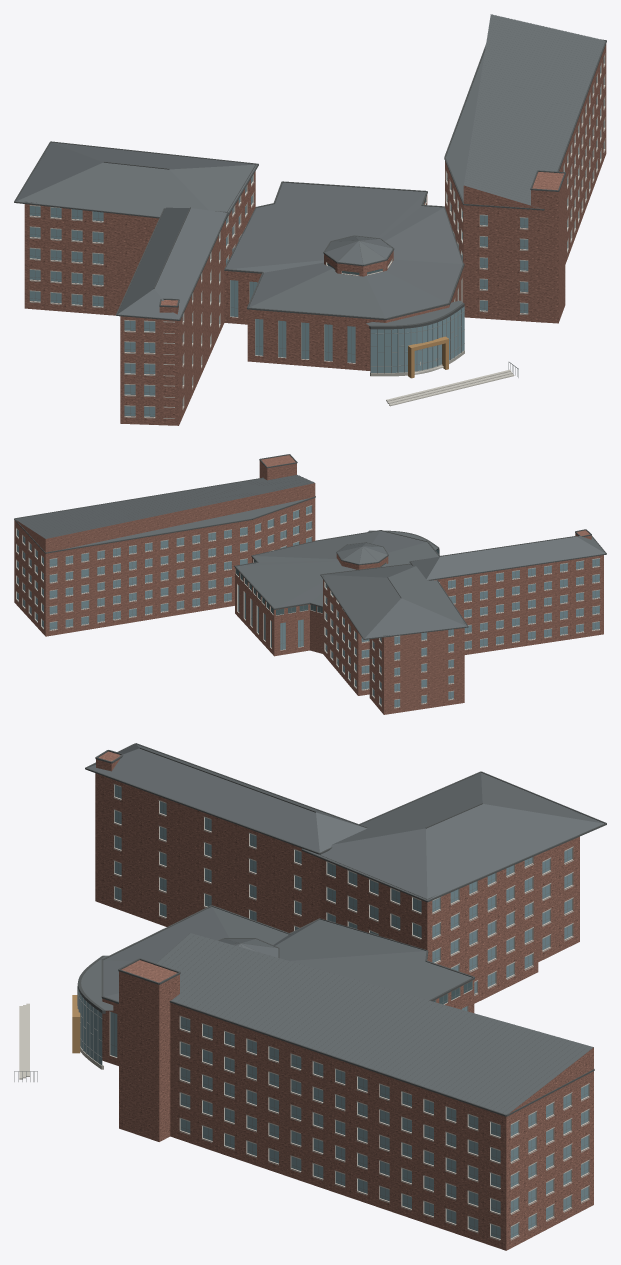
3 views of the same model, one above another, from view 1: azimuth 30°, elevation 25°; view 2: azimuth 150°, elevation 25°; view 3: azimuth 270°, elevation 25° (orthographic). The views are drawn at different scales.
Parts seen in each view (by area): view 1: cheongsong__centralHipRoof, cheongsong__rightWingMonoRoof, cheongsong__rearWestHipRoof, cheongsong__rightWing_wall_0, cheongsong__leftWingHipRoof, cheongsong__rearWestWing_wall_0, cheongsong__centralLow_wall_11, cheongsong__leftWing_wall_1, cheongsong__leftWing_wall_0, cheongsong__rightWing_wall_4, cheongsong__rightBlankStairTower, cheongsong__curvedLobbyGlass (+23 smaller); view 2: cheongsong__rightWing_wall_2, cheongsong__leftWing_wall_2, cheongsong__rearWestHipRoof, cheongsong__centralHipRoof, cheongsong__rearWestWing_wall_1, cheongsong__rightWingMonoRoof, cheongsong__rightWingMonoRoofgable, cheongsong__leftWingHipRoof, cheongsong__rightWing_wall_2__window, cheongsong__leftWing_wall_2__window, cheongsong__rightWing_wall_3, cheongsong__rearWestWing_wall_6 (+25 smaller); view 3: cheongsong__rightWing_wall_4, cheongsong__rightWingMonoRoof, cheongsong__leftWing_wall_0, cheongsong__rearWestHipRoof, cheongsong__centralHipRoof, cheongsong__leftWingHipRoof, cheongsong__rightWing_wall_3, cheongsong__rightWing_wall_4__window, cheongsong__rightBlankStairTower, cheongsong__rearWestWing_wall_6, cheongsong__rearWestWing_wall_7, cheongsong__rearWestWing_wall_2 (+20 smaller).
Part boxes in pixels (<box>): cheongsong__centralHipRoof: <box>225,182,462,318</box>; cheongsong__rightWingMonoRoof: <box>464,14,605,205</box>; cheongsong__rearWestHipRoof: <box>16,142,257,216</box>; cheongsong__rightWing_wall_0: <box>463,205,543,322</box>; cheongsong__leftWingHipRoof: <box>117,207,226,319</box>; cheongsong__rearWestWing_wall_0: <box>24,204,108,314</box>; cheongsong__centralLow_wall_11: <box>247,309,385,370</box>; cheongsong__leftWing_wall_1: <box>120,316,178,425</box>; cheongsong__leftWing_wall_0: <box>179,223,224,424</box>; cheongsong__rightWing_wall_4: <box>559,44,606,264</box>; cheongsong__rightBlankStairTower: <box>531,172,565,323</box>; cheongsong__curvedLobbyGlass: <box>371,306,464,372</box>; cheongsong__rightWing_wall_2: <box>45,520,251,636</box>; cheongsong__leftWing_wall_2: <box>434,555,603,654</box>; cheongsong__rearWestHipRoof: <box>322,564,467,638</box>; cheongsong__centralHipRoof: <box>236,531,438,608</box>; cheongsong__rearWestWing_wall_1: <box>384,628,464,714</box>; cheongsong__rightWingMonoRoof: <box>15,475,314,538</box>; cheongsong__rightWingMonoRoofgable: <box>16,483,315,552</box>; cheongsong__leftWingHipRoof: <box>411,536,605,579</box>; cheongsong__rightWing_wall_2__window: <box>49,527,247,629</box>; cheongsong__leftWing_wall_2__window: <box>448,558,599,648</box>; cheongsong__rightWing_wall_3: <box>14,520,45,636</box>; cheongsong__rearWestWing_wall_6: <box>323,579,358,695</box>; cheongsong__rightWing_wall_4: <box>170,1002,506,1250</box>; cheongsong__rightWingMonoRoof: <box>156,933,593,1114</box>; cheongsong__leftWing_wall_0: <box>95,773,320,932</box>; cheongsong__rearWestHipRoof: <box>304,772,604,900</box>; cheongsong__centralHipRoof: <box>103,906,471,1001</box>; cheongsong__leftWingHipRoof: <box>87,744,366,852</box>; cheongsong__rightWing_wall_3: <box>506,1071,593,1250</box>; cheongsong__rightWing_wall_4__window: <box>181,1017,500,1238</box>; cheongsong__rightBlankStairTower: <box>119,960,179,1141</box>; cheongsong__rearWestWing_wall_6: <box>427,855,538,1003</box>; cheongsong__rearWestWing_wall_7: <box>320,858,427,949</box>; cheongsong__rearWestWing_wall_2: <box>538,836,579,961</box>.
Size of the model in its own units: 112 by 22.49 by 74.81.
Materials: 10 (1 with a texture image).
